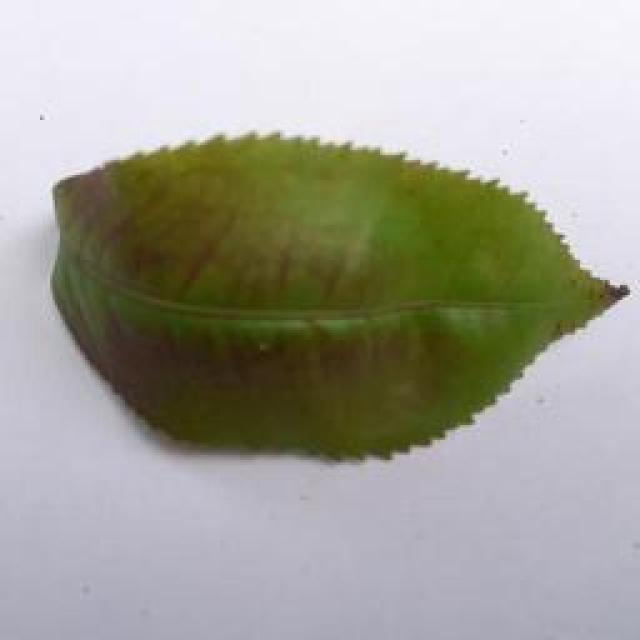Red Leaf Spot: (32, 118, 640, 480)
